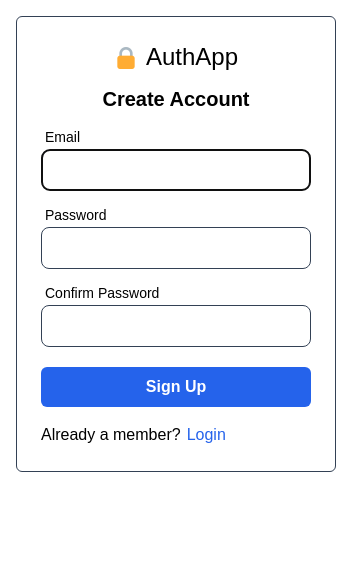
Test case: AccountApp › register › error handling › shows unexpected error text if status but no message
Expected: the heading "AuthApp" is shown, [146,41,238,73]
Type "user@example.com" into the field labelled "Email" at (176, 170), box [41,149,311,191]
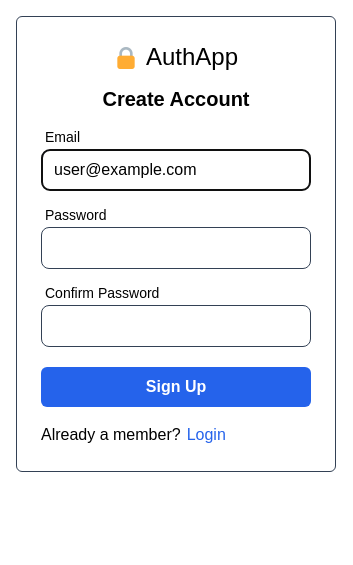
Type "Passw0rd" into the password field labelled "Password" at (176, 248), box [41,227,311,269]
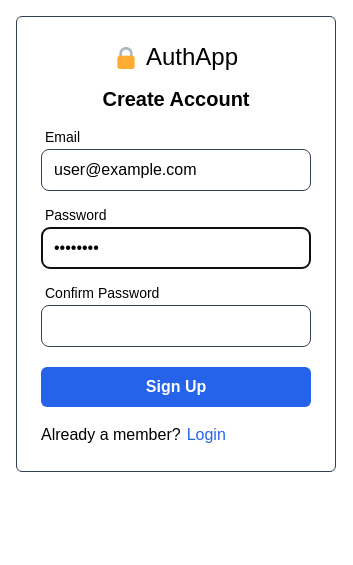
Type "Passw0rd" into the password field labelled "Confirm Password" at (176, 326), box [41,305,311,347]
Then press Enter
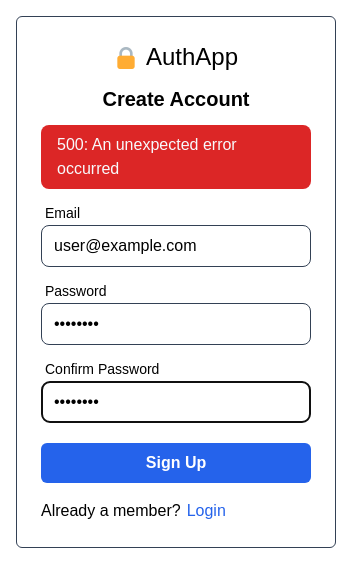
Result: the text "500: An unexpected error occurred" is shown at [41,125,311,189]
